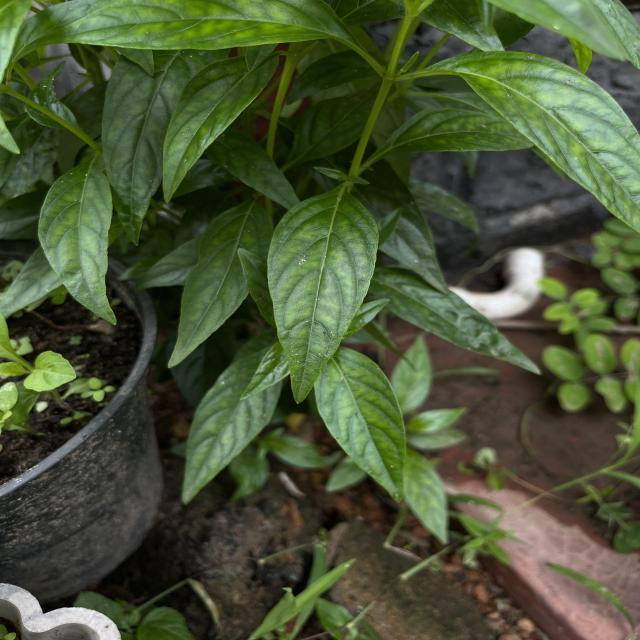Andrographis paniculata: (438, 50, 640, 236), (266, 187, 381, 406), (10, 0, 363, 54), (374, 268, 543, 378), (161, 49, 280, 204), (166, 197, 272, 370), (180, 348, 282, 506), (314, 347, 409, 507), (36, 157, 119, 326), (209, 134, 300, 210), (404, 448, 450, 546)
